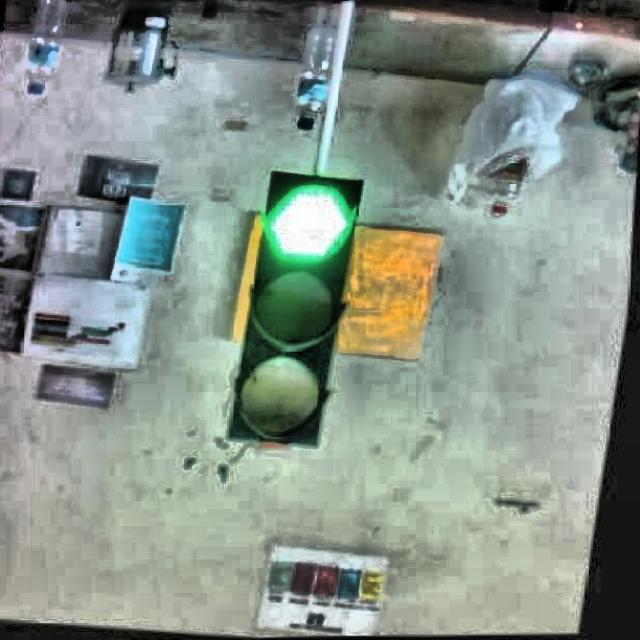green: (228, 161, 364, 462)
